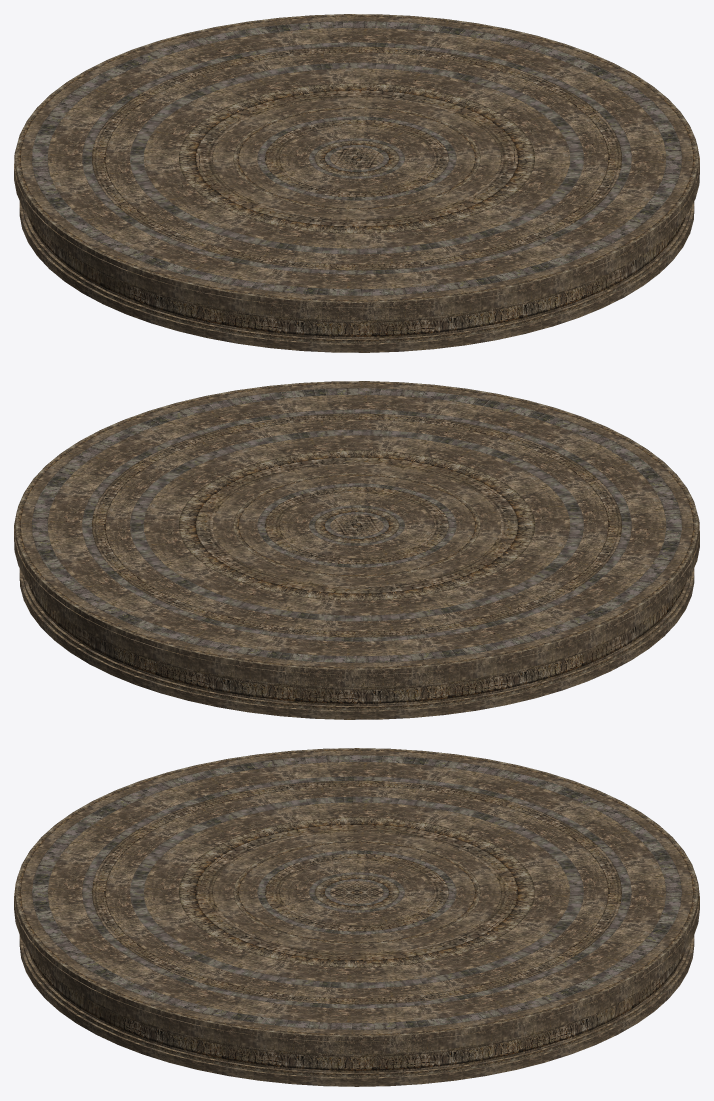
Rendered from materials_5_floor_round_1.fbx.
The picture shows the model from 3 angles, top to bottom: view 1: azimuth 30°, elevation 25°; view 2: azimuth 150°, elevation 25°; view 3: azimuth 270°, elevation 25°; orthographic projection.
Parts seen in each view (by area): view 1: materials_5_floor_round_1; view 2: materials_5_floor_round_1; view 3: materials_5_floor_round_1.
Boxes of the visible parts, <box> form: materials_5_floor_round_1: <box>14,14,699,352</box>; materials_5_floor_round_1: <box>14,381,699,719</box>; materials_5_floor_round_1: <box>14,748,699,1086</box>.
Bounding box in the file's own units: 686 × 57.09 × 686.
